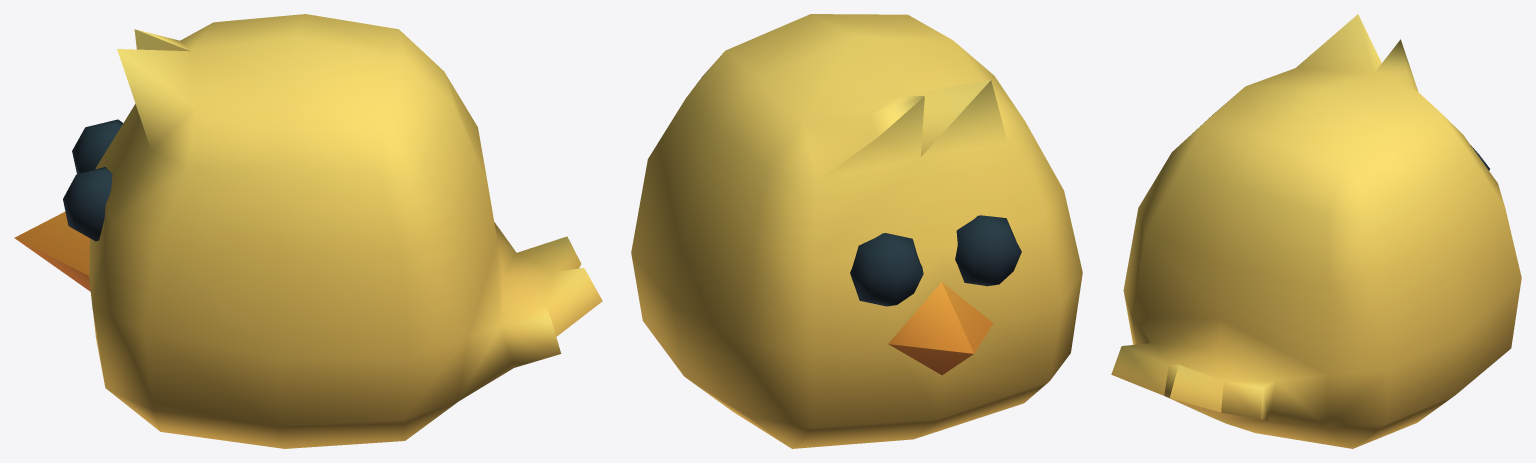
The model's file is Big_Bird_rotate.glb.
3 views of the same model, side by side, from view 1: azimuth 30°, elevation 25°; view 2: azimuth 150°, elevation 25°; view 3: azimuth 270°, elevation 25° (orthographic). The views are drawn at different scales.
Visible parts, largest first — view 1: chick; view 2: chick; view 3: chick.
Boxes of the visible parts, <box> form: chick: <box>14,14,602,448</box>; chick: <box>631,14,1082,448</box>; chick: <box>1111,14,1521,448</box>.
Size of what is drawn, in the model's own units: 9.07 by 7.12 by 8.23.
Materials: 1 (1 with a texture image).
